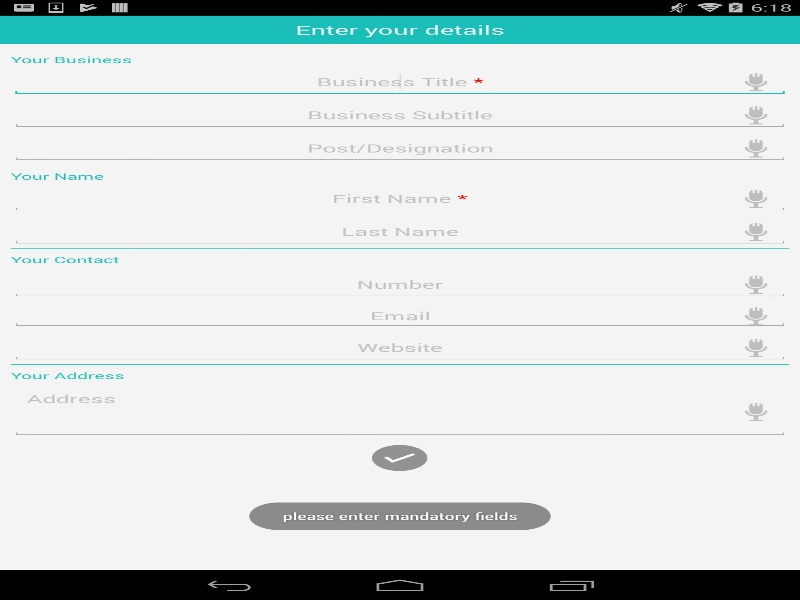Input: (10, 386, 789, 437), (10, 68, 789, 96), (10, 101, 789, 129), (10, 134, 789, 162), (10, 184, 789, 212), (10, 217, 789, 245), (10, 270, 789, 298), (10, 333, 789, 361), (10, 303, 789, 328)
